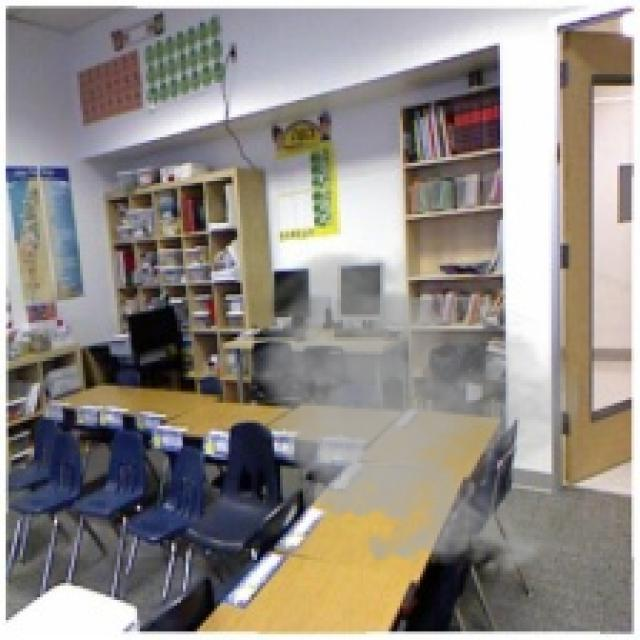Smoke: (234, 243, 583, 586)
